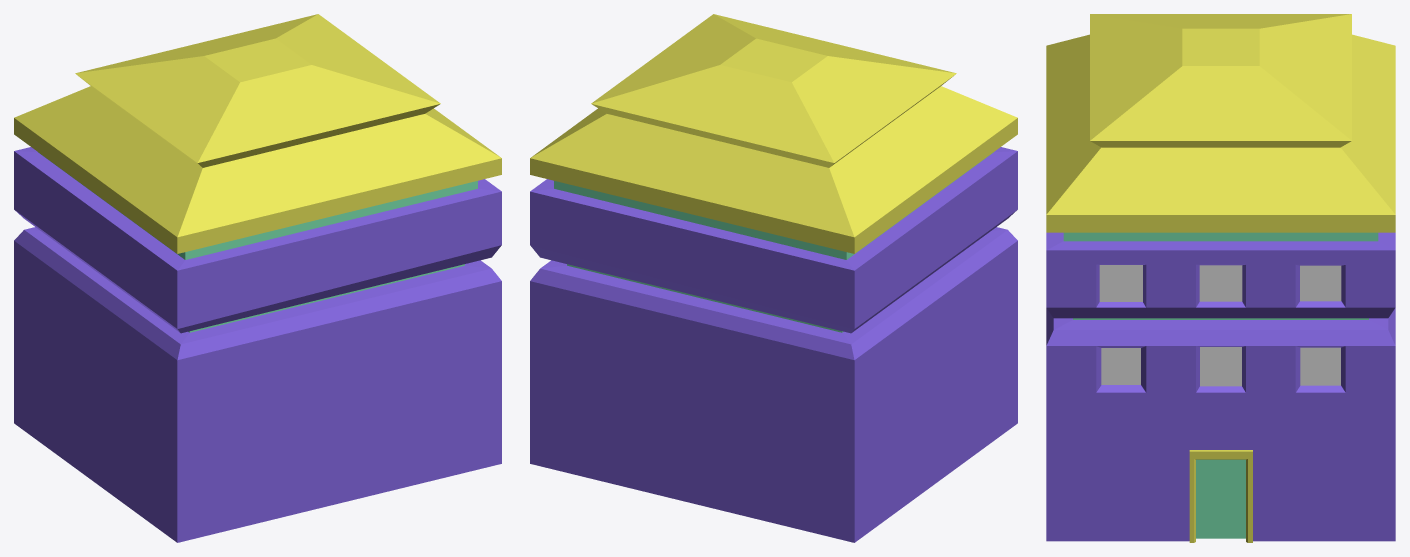
The model's file is FBX_UC_mBuilding_3.fbx.
3 views of the same model, side by side, from view 1: azimuth 30°, elevation 25°; view 2: azimuth 150°, elevation 25°; view 3: azimuth 270°, elevation 25° (orthographic). The views are drawn at different scales.
Parts seen in each view (by area): view 1: FBX_UC_mBuilding_3; view 2: FBX_UC_mBuilding_3; view 3: FBX_UC_mBuilding_3.
Part boxes in pixels (x1,y1,x2,y2): FBX_UC_mBuilding_3: [14, 14, 501, 542]; FBX_UC_mBuilding_3: [530, 14, 1017, 542]; FBX_UC_mBuilding_3: [1046, 14, 1395, 542].
Size of the model in its own units: 1062 by 1186 by 917.
